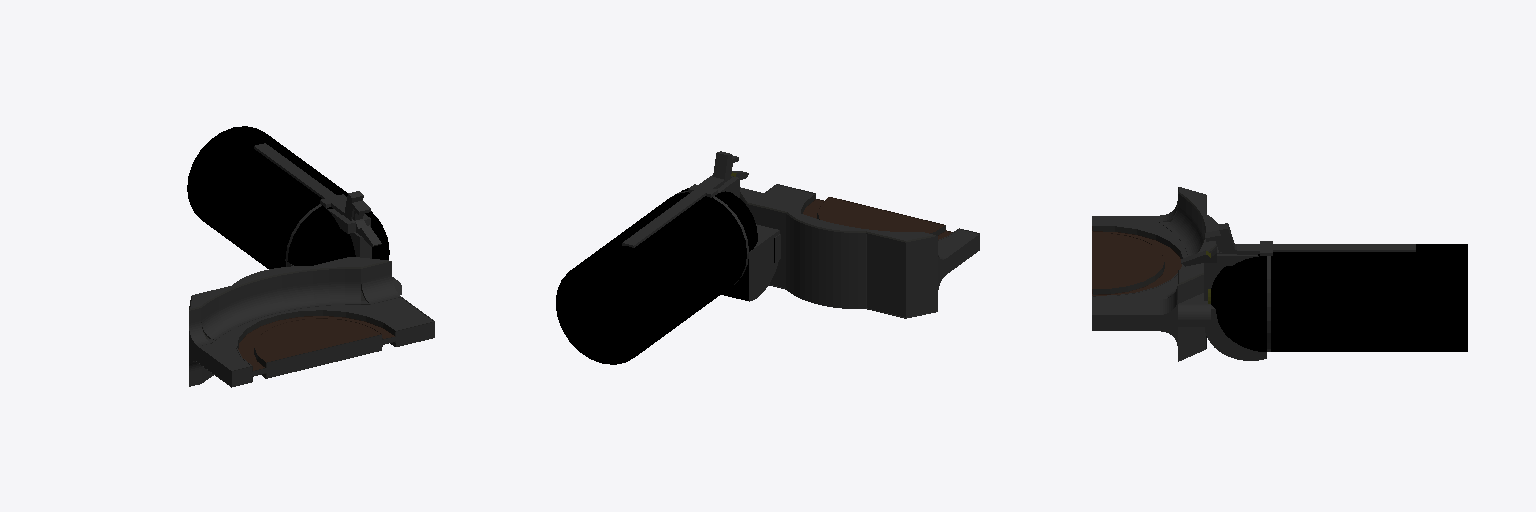
File: flaregun.obj
3 views of the same model, side by side, from view 1: azimuth 30°, elevation 25°; view 2: azimuth 150°, elevation 25°; view 3: azimuth 270°, elevation 25° (orthographic).
Size of the model in its own units: 6.2 by 3.27 by 8.52.